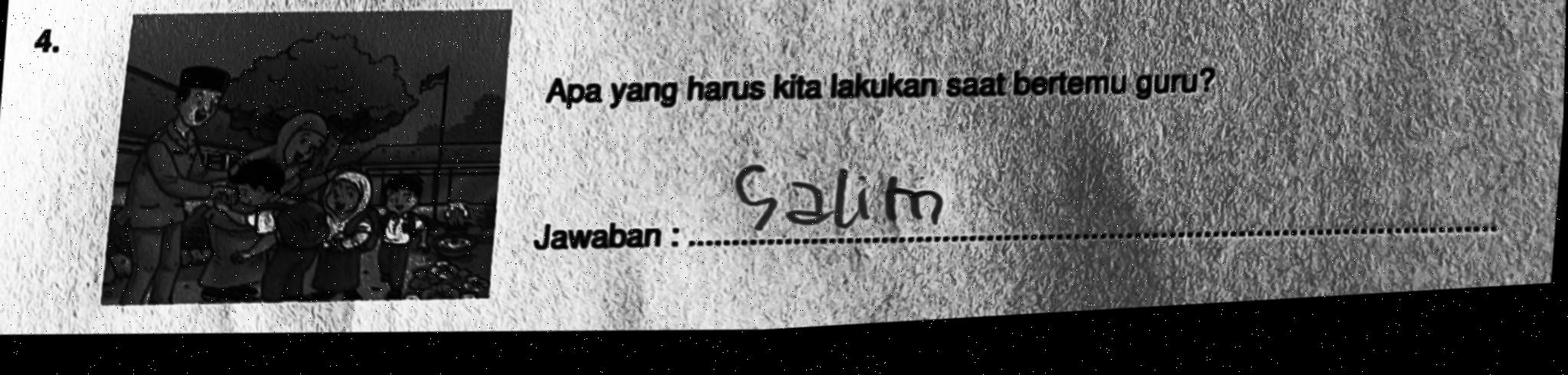jawaban: (725, 156, 958, 241)
